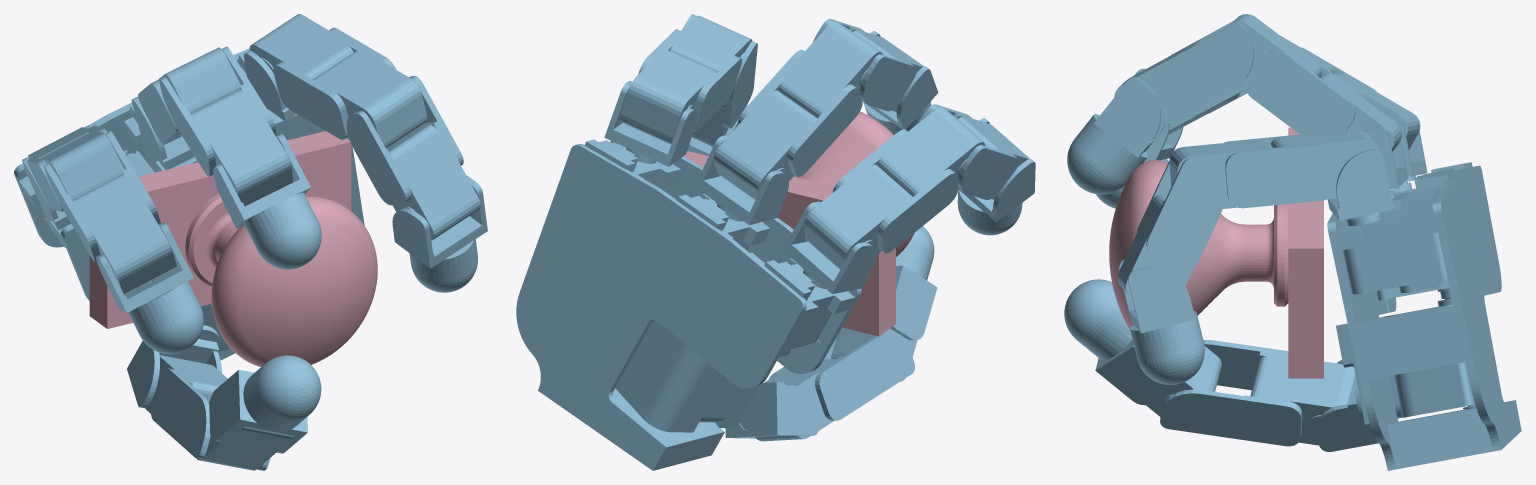
The picture shows the model from 3 angles, left to right: view 1: azimuth 30°, elevation 25°; view 2: azimuth 150°, elevation 25°; view 3: azimuth 270°, elevation 25°; orthographic projection. The views are drawn at different scales.
Visible parts, largest first — view 1: world, door_knob.stl; view 2: world, door_knob.stl; view 3: world, door_knob.stl.
Part boxes in pixels (bbox=[...]): world: bbox=[14, 14, 487, 470]; door_knob.stl: bbox=[89, 131, 377, 367]; world: bbox=[516, 14, 1035, 470]; door_knob.stl: bbox=[684, 111, 914, 336]; world: bbox=[1064, 14, 1521, 470]; door_knob.stl: bbox=[1109, 127, 1323, 378].
Size of the model in its own units: 0.158 by 0.1607 by 0.1597.
